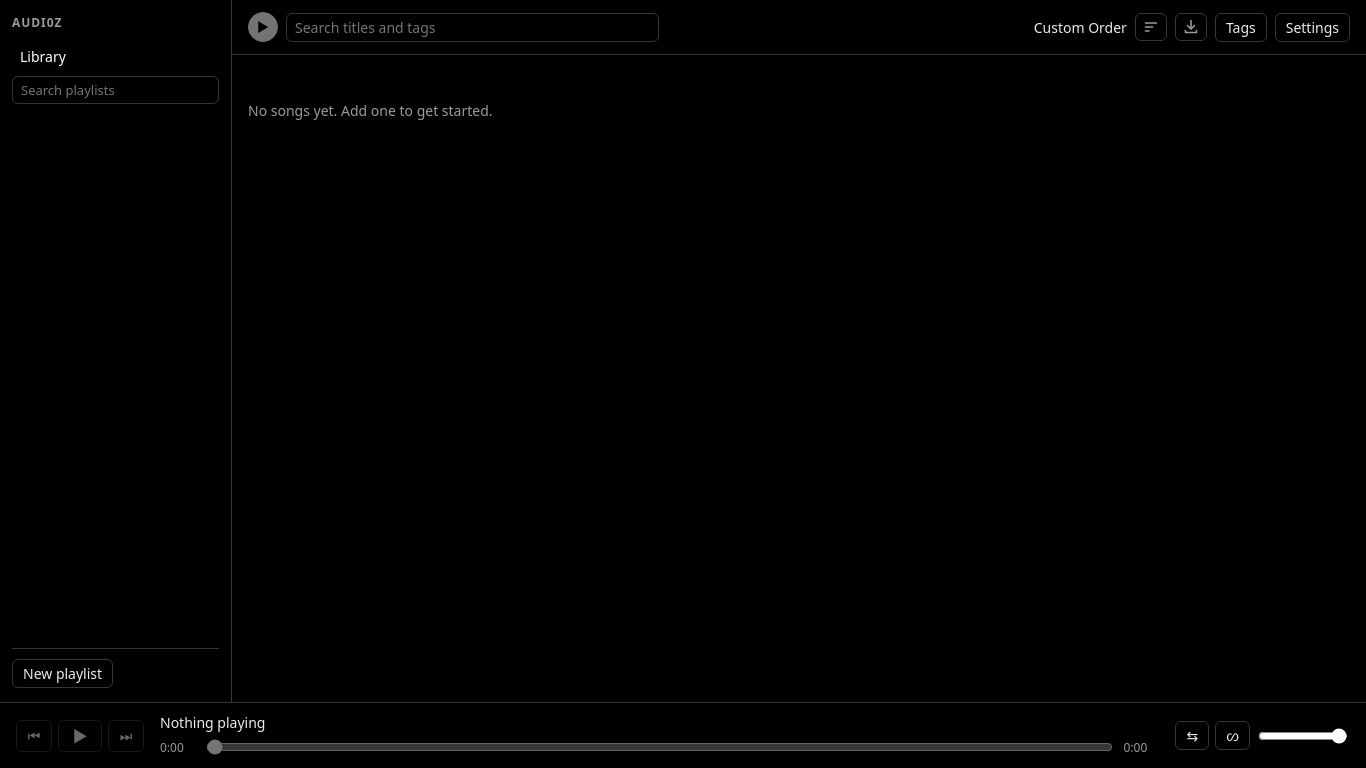
Test: AddSongDialog — url source › warns that the first probe after launch is slow, while it is running
This screenshot has width=1366, height=768.
Click the button named "Add song": {"x": 1191, "y": 27} left=1175, top=13, right=1207, bottom=41
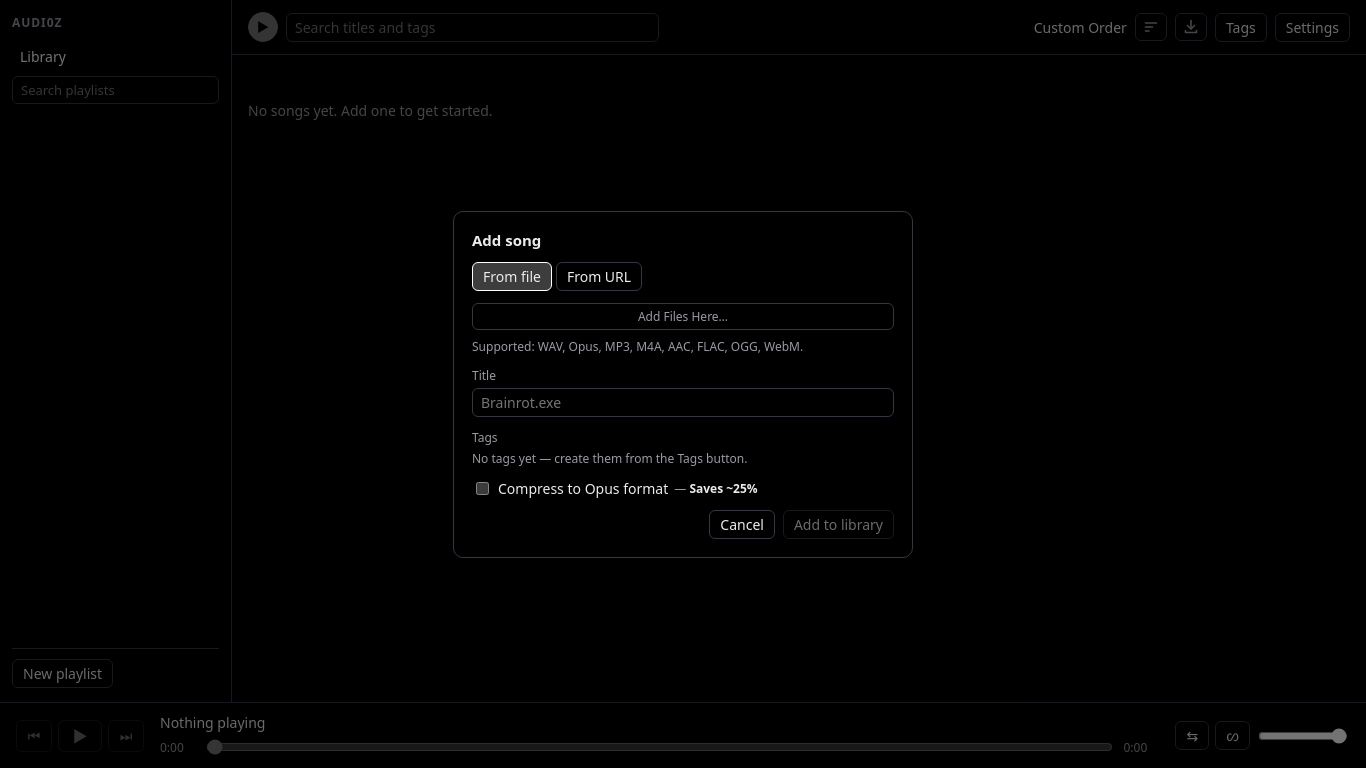
Click the button "From URL": {"x": 599, "y": 276} left=556, top=262, right=642, bottom=290
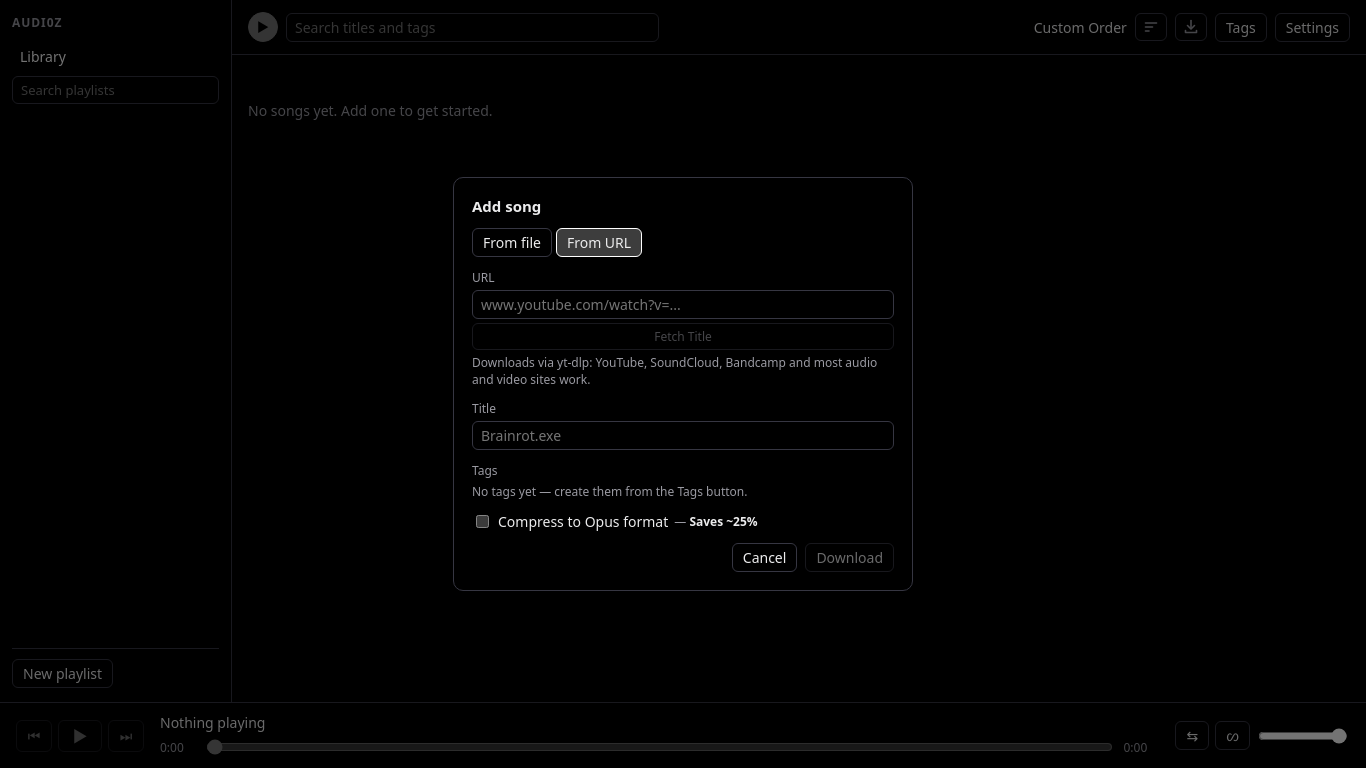
Expected: the text "Fetching details… (the first fetch after launch can take ~30s)" is not shown
In the field labelled "URL": {"x": 683, "y": 304} left=472, top=290, right=894, bottom=319, type "https://example.com/watch?v=abc"
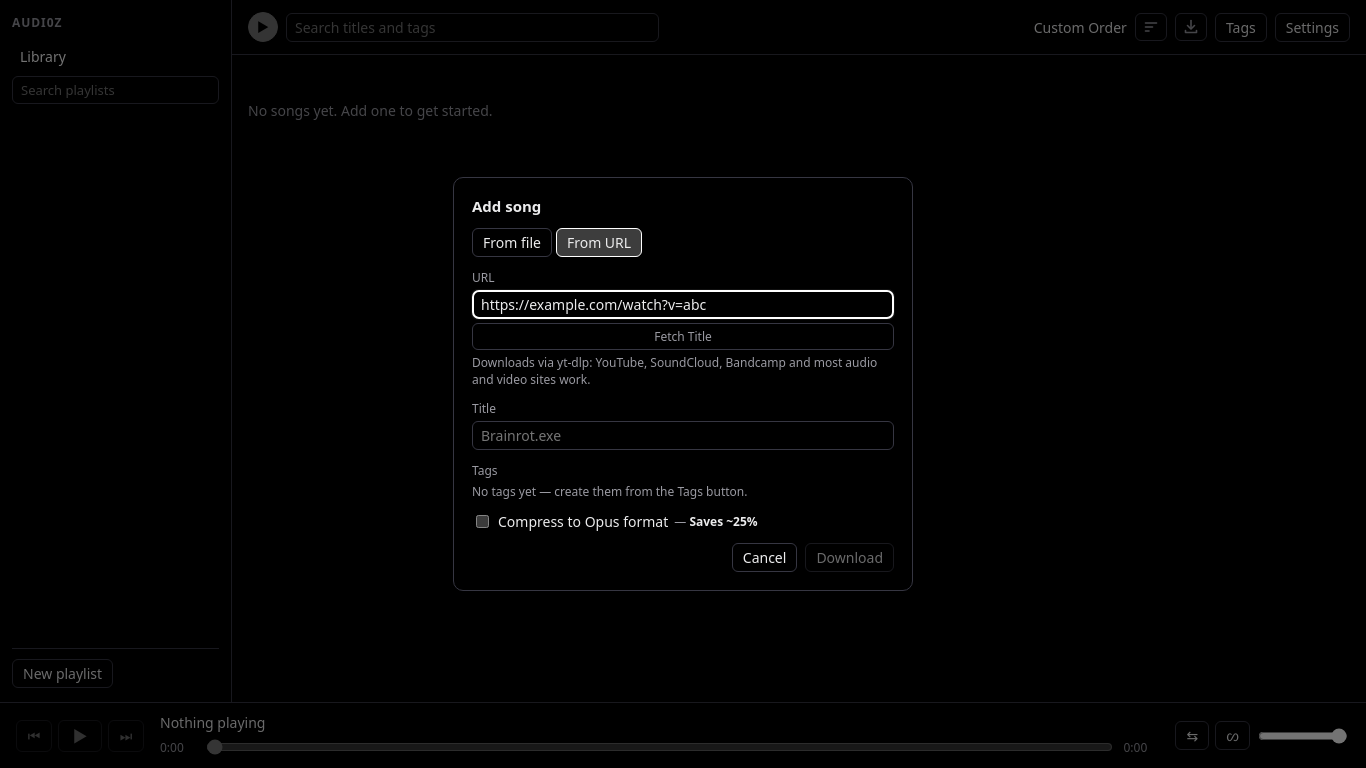
Click the button "Fetch Title": {"x": 683, "y": 336} left=472, top=323, right=894, bottom=350
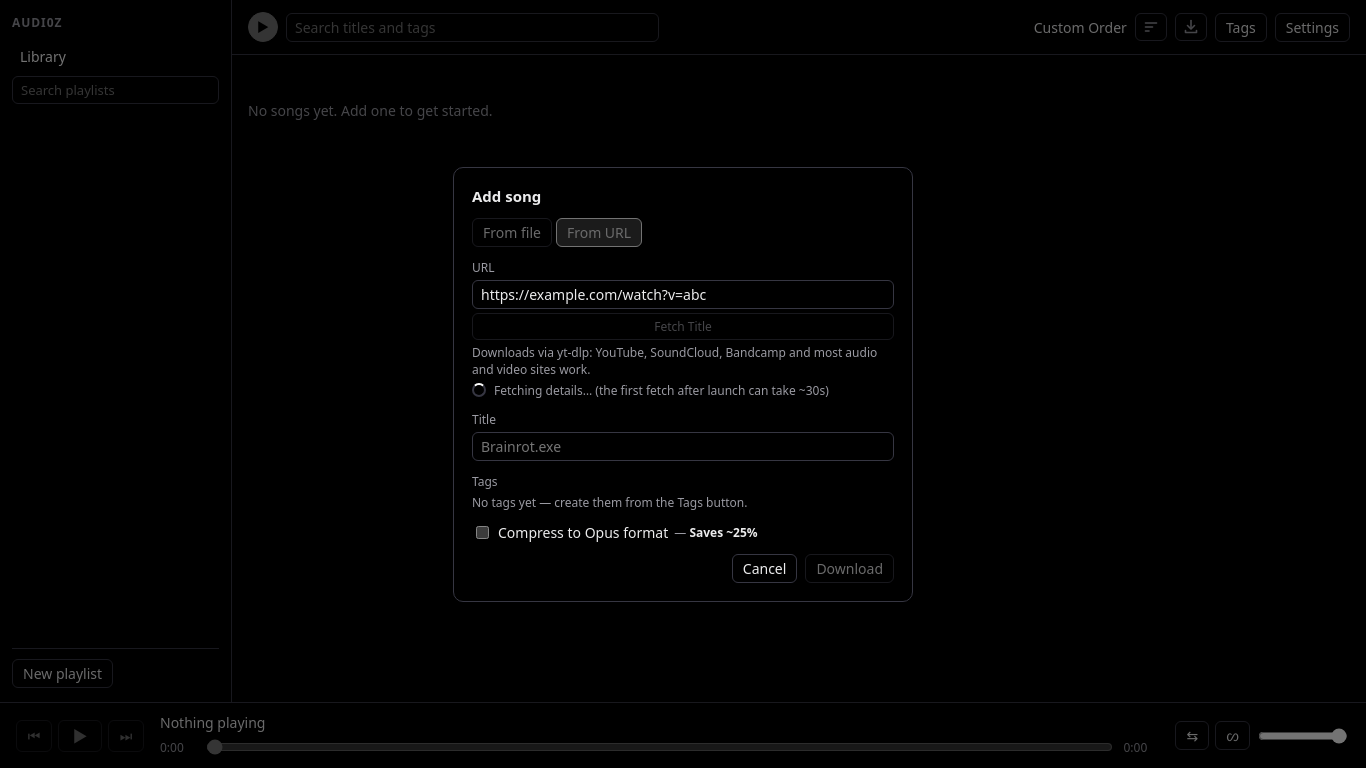
Expected: the element with class "spinner" is shown, left=472, top=383, right=486, bottom=397
Expected: the button "Fetch Title" is disabled, left=472, top=312, right=894, bottom=340
